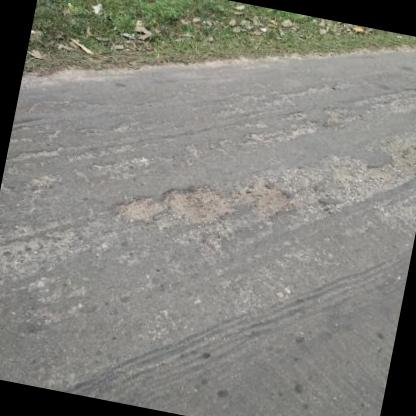pothole: (154, 174, 238, 230), (229, 174, 294, 223), (112, 190, 166, 224), (395, 131, 416, 173)
